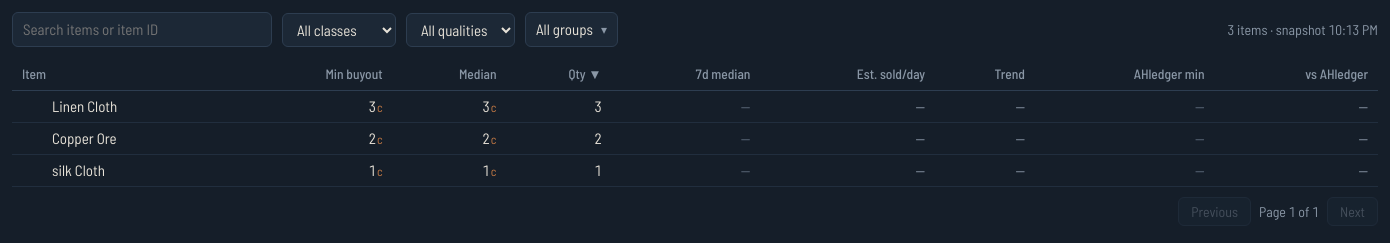
Test: MarketView table › sorts item names as text
The width and height of the screenshot is (1390, 243).
What coordinates should you click on to do the following:
click the column heading "Item"
I would click on:
 (126, 75)
Its box is left=12, top=59, right=240, bottom=90.
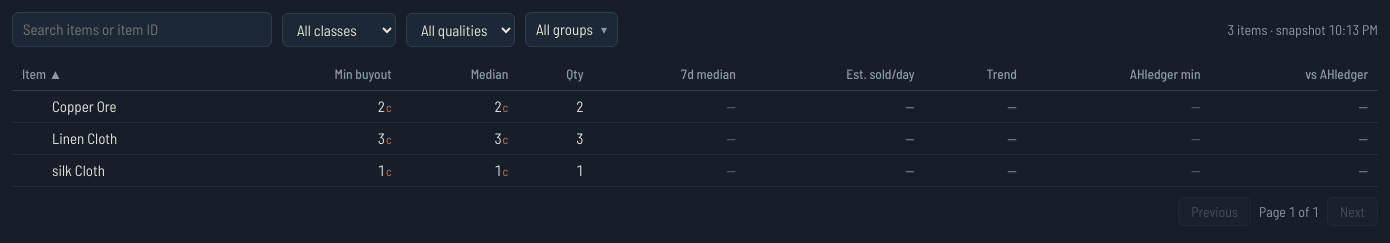
Now the column heading "Item ▲" has attribute aria-sort="ascending", box left=12, top=59, right=245, bottom=90
